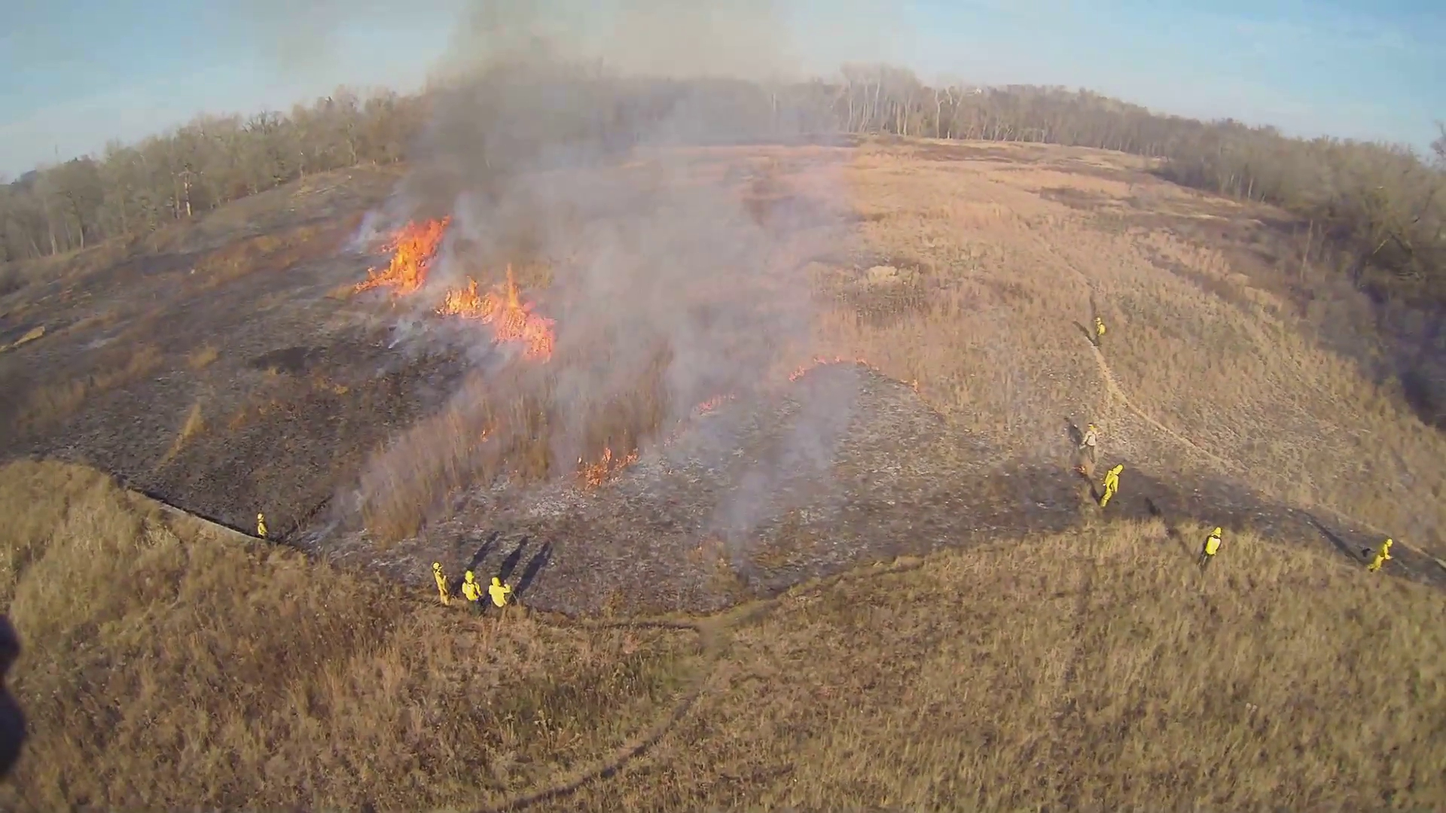forest_fire: (436, 266, 554, 359), (355, 218, 449, 294)
